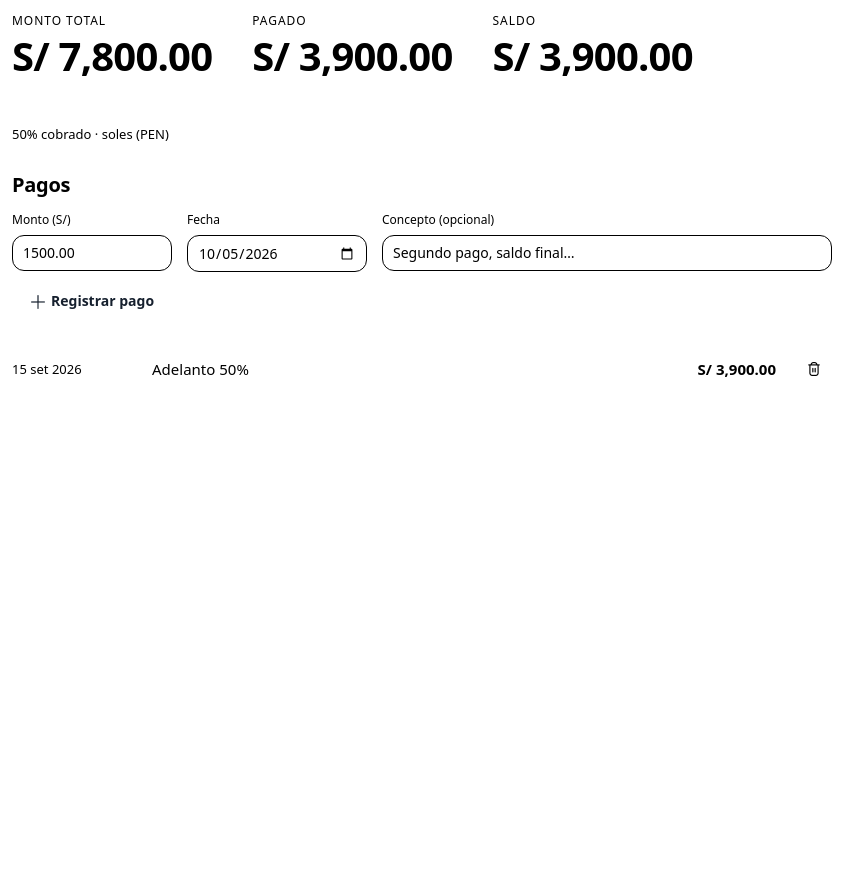
PaymentsPanel › el pago aparece al instante (pendiente) y las cifras se recalculan antes de la respuesta
In the field labelled "Monto (S/)": (92, 253) top-left (12, 235), bottom-right (172, 271), type "1500"
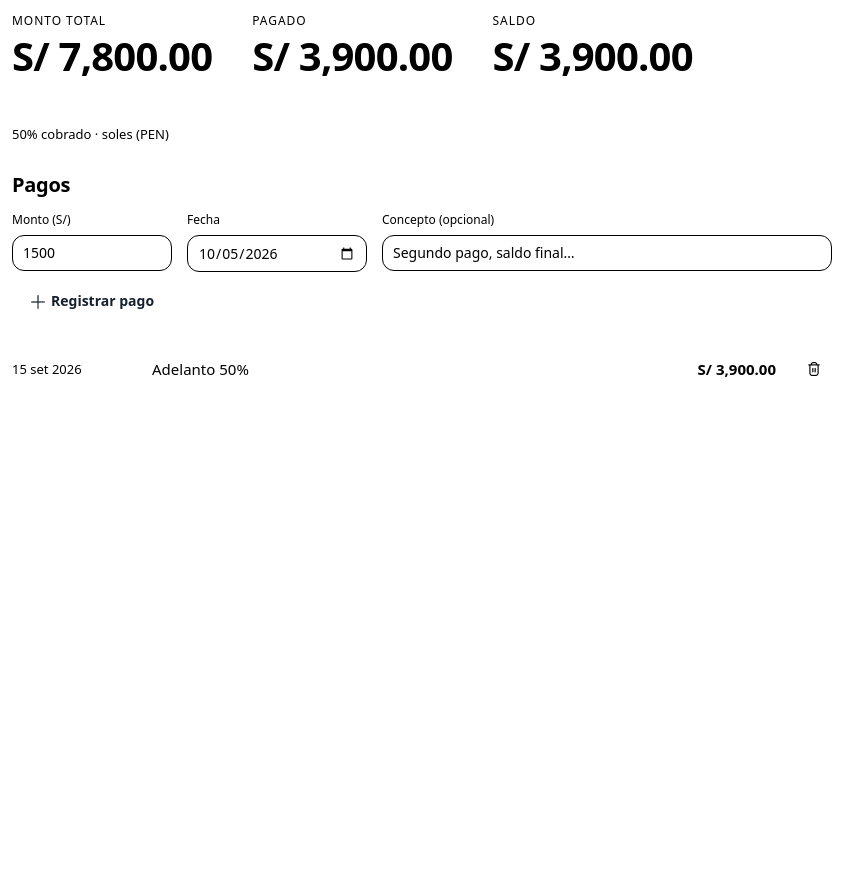
In the field labelled "Concepto (opcional)": (607, 253) top-left (382, 235), bottom-right (832, 271), type "Segundo pago"
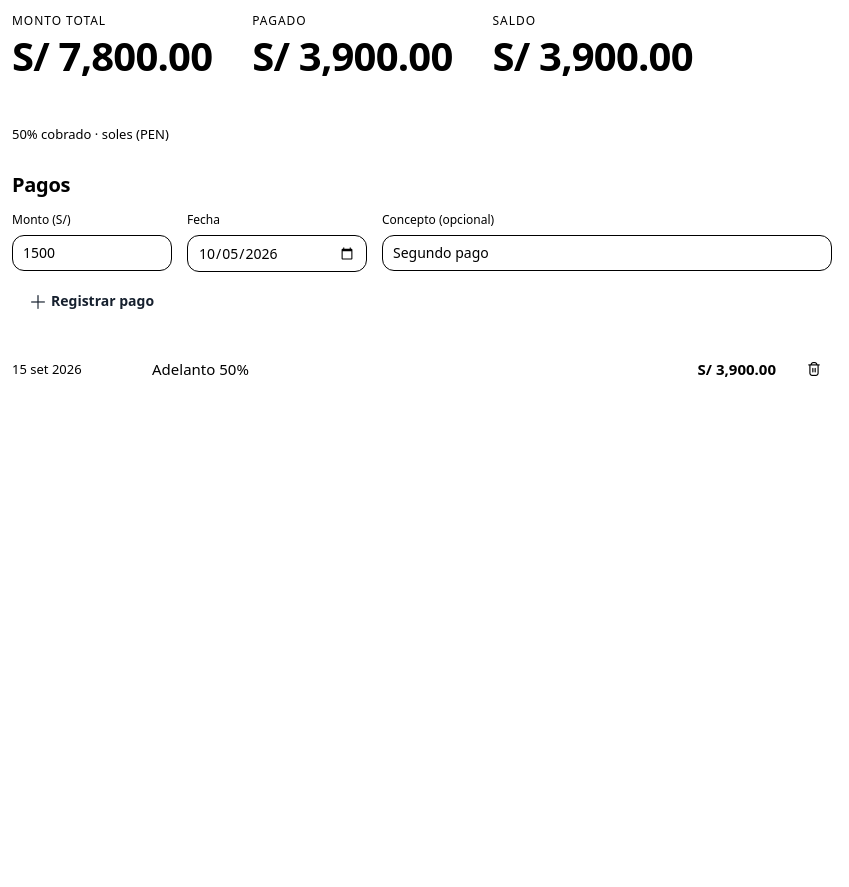
Click the button "Registrar pago": (93, 302) top-left (12, 282), bottom-right (173, 321)
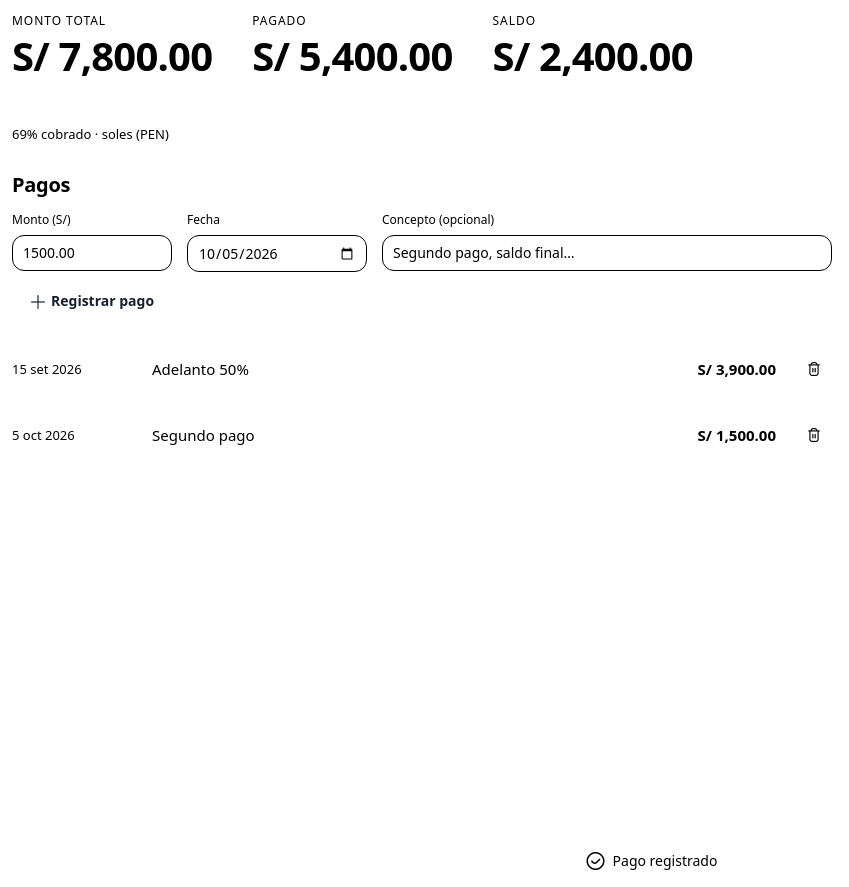
Now the number of list items is 2, box top-left (12, 351), bottom-right (832, 387); top-left (12, 417), bottom-right (832, 453)
Now the text "S/ 5,400.00" is shown, box top-left (252, 36), bottom-right (453, 76)
Now the field labelled "Monto (S/)" is empty, box top-left (12, 235), bottom-right (172, 271)
